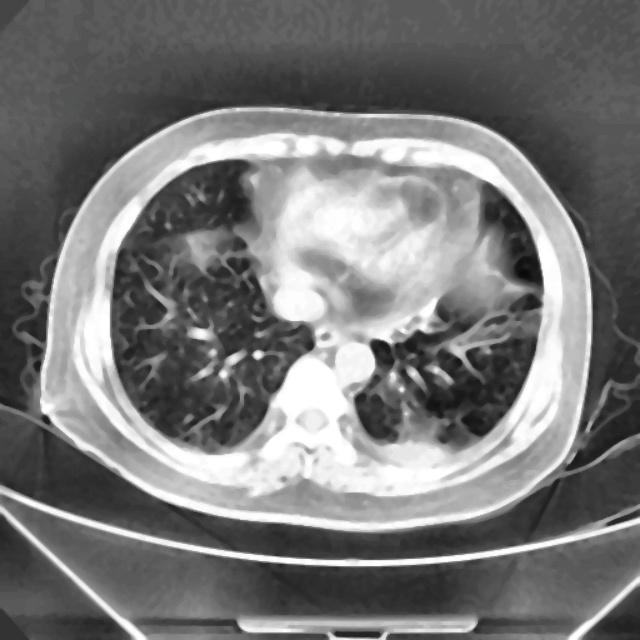covid: (36, 105, 595, 532)
